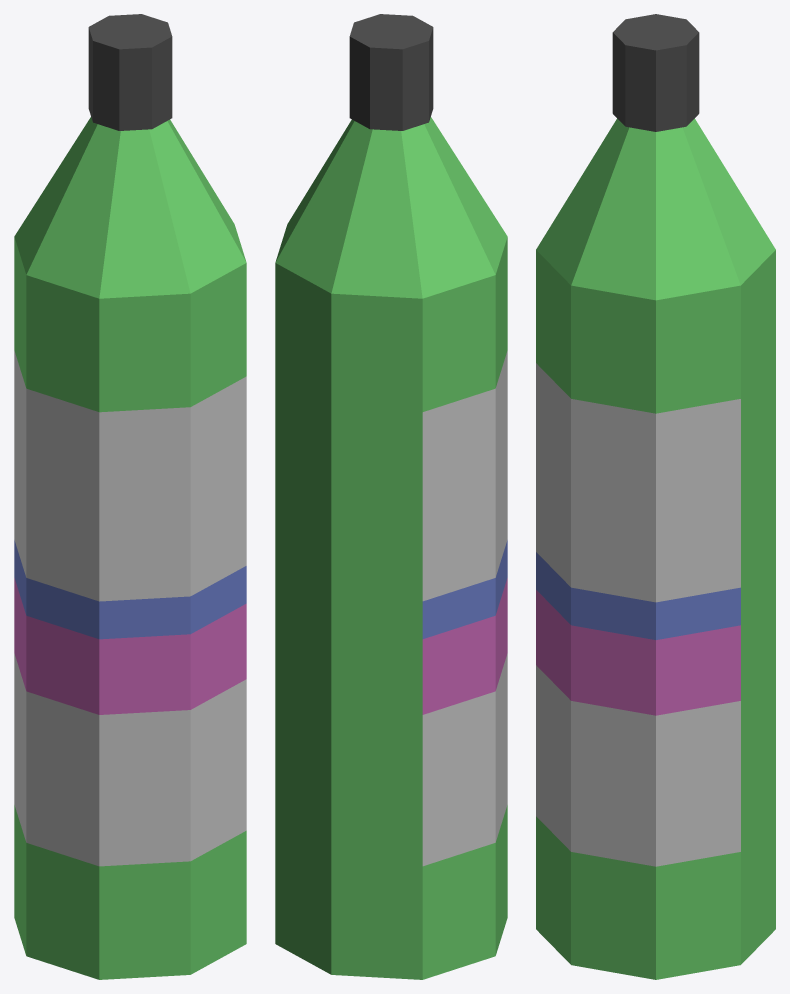
Rendered from Cleaning Product 1.fbx.
The picture shows the model from 3 angles, left to right: view 1: azimuth 30°, elevation 25°; view 2: azimuth 150°, elevation 25°; view 3: azimuth 270°, elevation 25°; orthographic projection.
Visible parts, largest first — view 1: Cleaning Product 1, Lid; view 2: Cleaning Product 1, Lid; view 3: Cleaning Product 1, Lid.
Part boxes in pixels (x1,y1,x2,y2): Cleaning Product 1: (14,117,246,979); Lid: (88,14,172,130); Cleaning Product 1: (275,117,507,979); Lid: (349,14,433,130); Cleaning Product 1: (536,118,775,979); Lid: (612,14,699,131).
Bounding box in the file's own units: 80 × 330 × 80.
